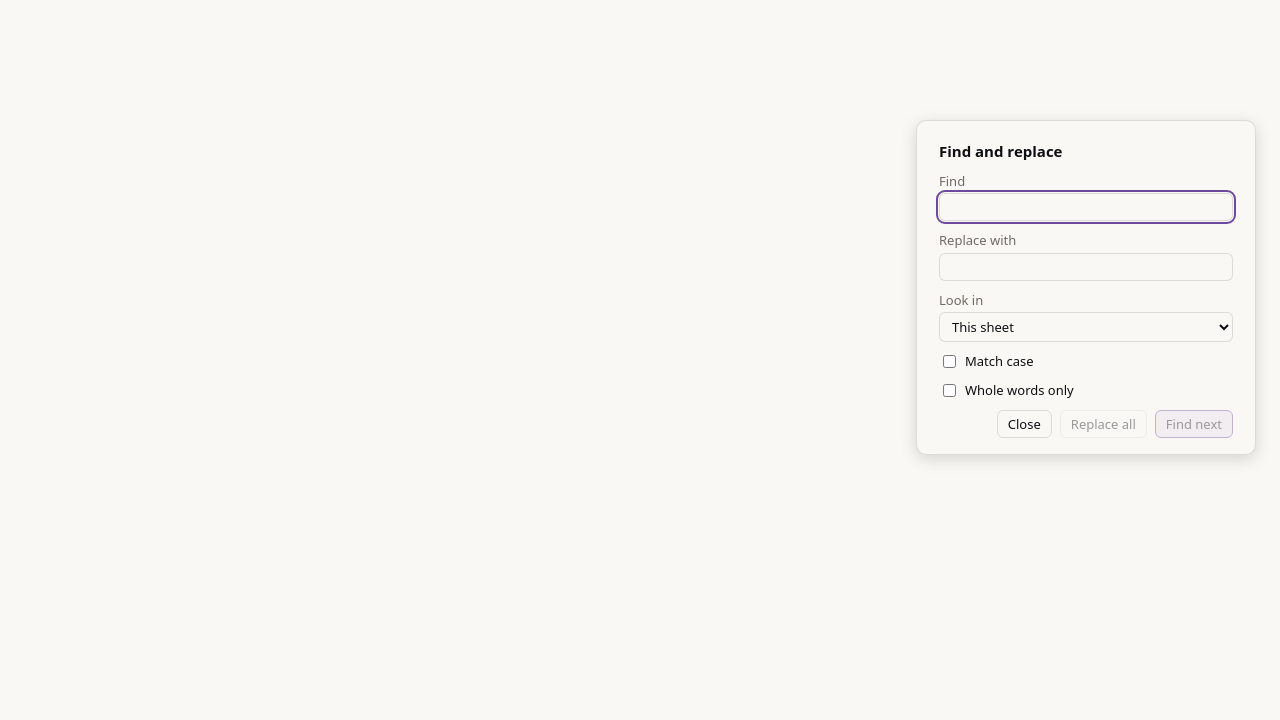
Test case: replace all says how many it replaced
Type "باب" into the field labelled "Find".
click(1086, 207); type("باب")  # box [939,193,1233,221]
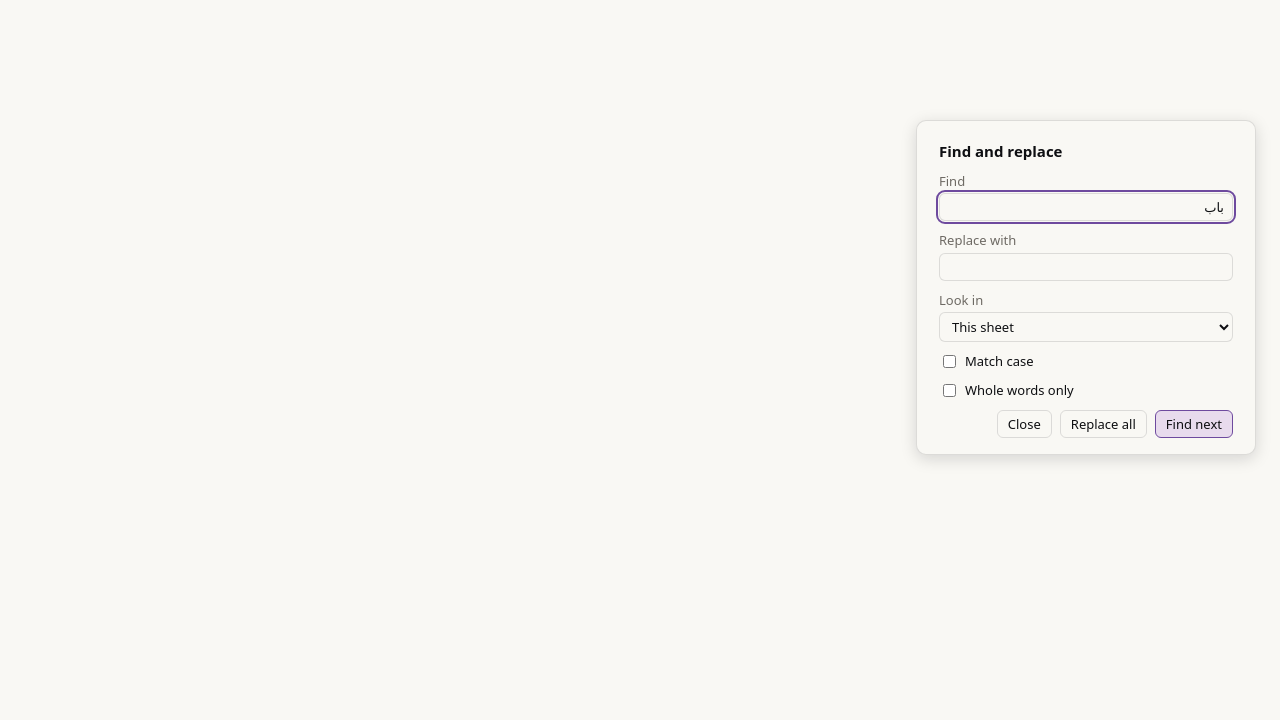
Type "مدخل" into the field labelled "Replace with".
click(1086, 267); type("مدخل")  # box [939,253,1233,281]
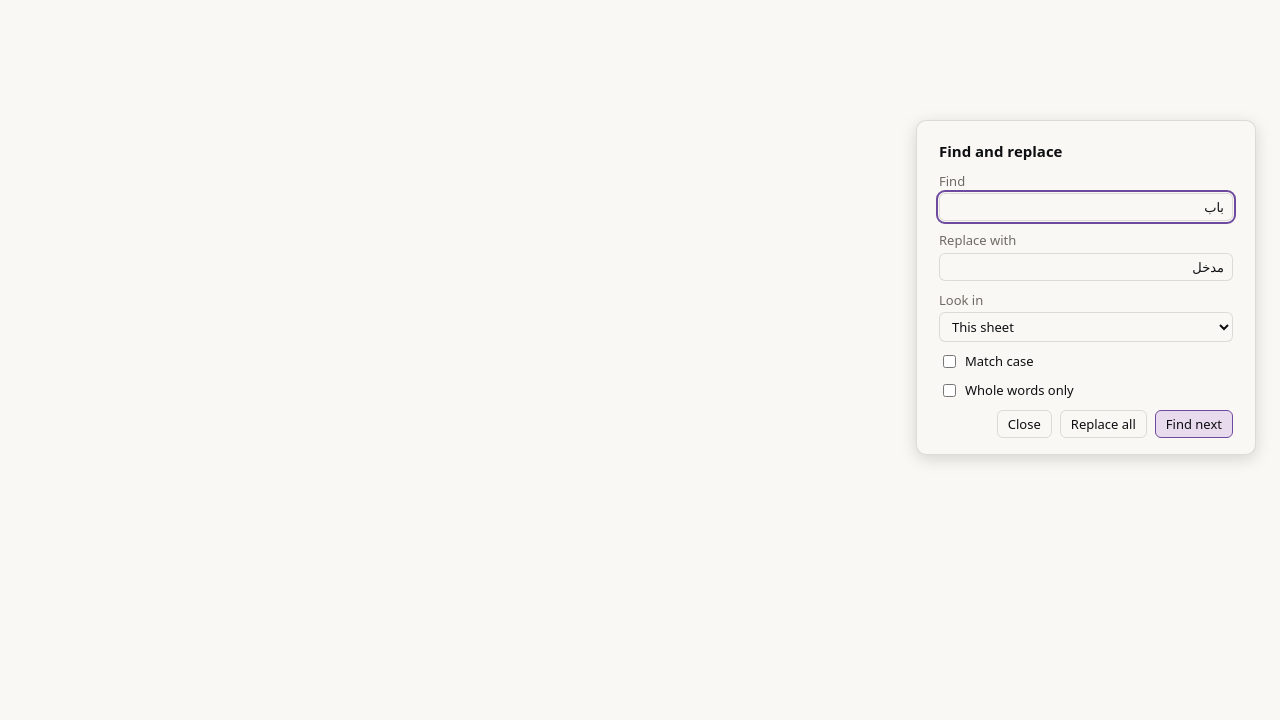
Click the button "Replace all".
click(1103, 424)  # box [1060,410,1147,438]
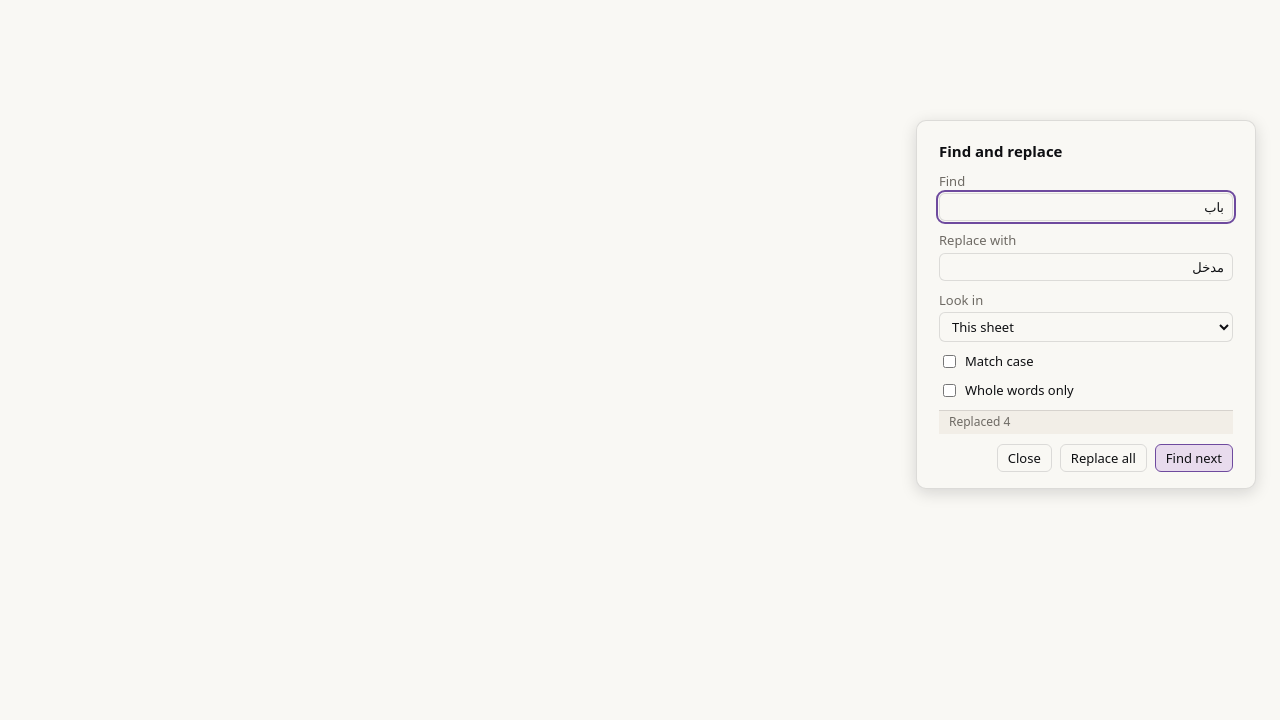
Now the message reads "Replaced 4", box [949,413,1010,430]
